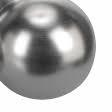ironball: (0, 0, 102, 110)
